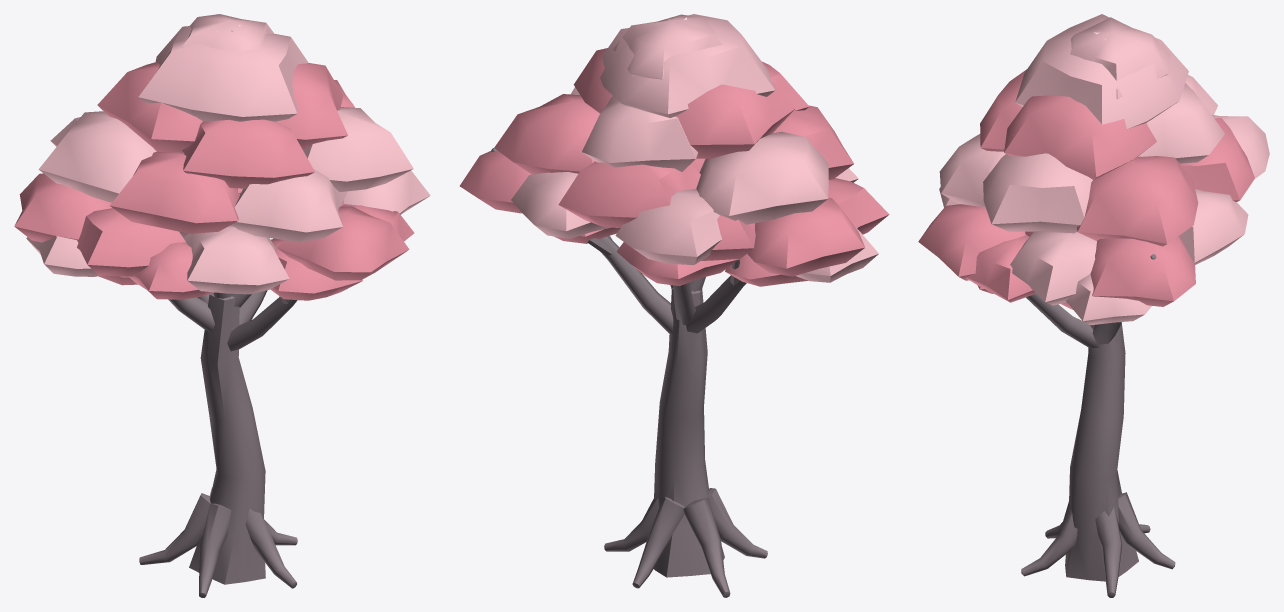
The model's file is akasha_tree_blossom.glb.
3 renders of one model, left to right at view 1: azimuth 30°, elevation 25°; view 2: azimuth 150°, elevation 25°; view 3: azimuth 270°, elevation 25°, orthographic. The views are drawn at different scales.
Parts seen in each view (by area): view 1: akasha_tree_blossom; view 2: akasha_tree_blossom; view 3: akasha_tree_blossom.
Boxes of the visible parts, box(x1,y1,x2,y2) form: akasha_tree_blossom: box(14, 14, 430, 597); akasha_tree_blossom: box(459, 14, 889, 597); akasha_tree_blossom: box(918, 14, 1269, 597).
Bounding box in the file's own units: 6.21 × 8.51 × 4.99.
